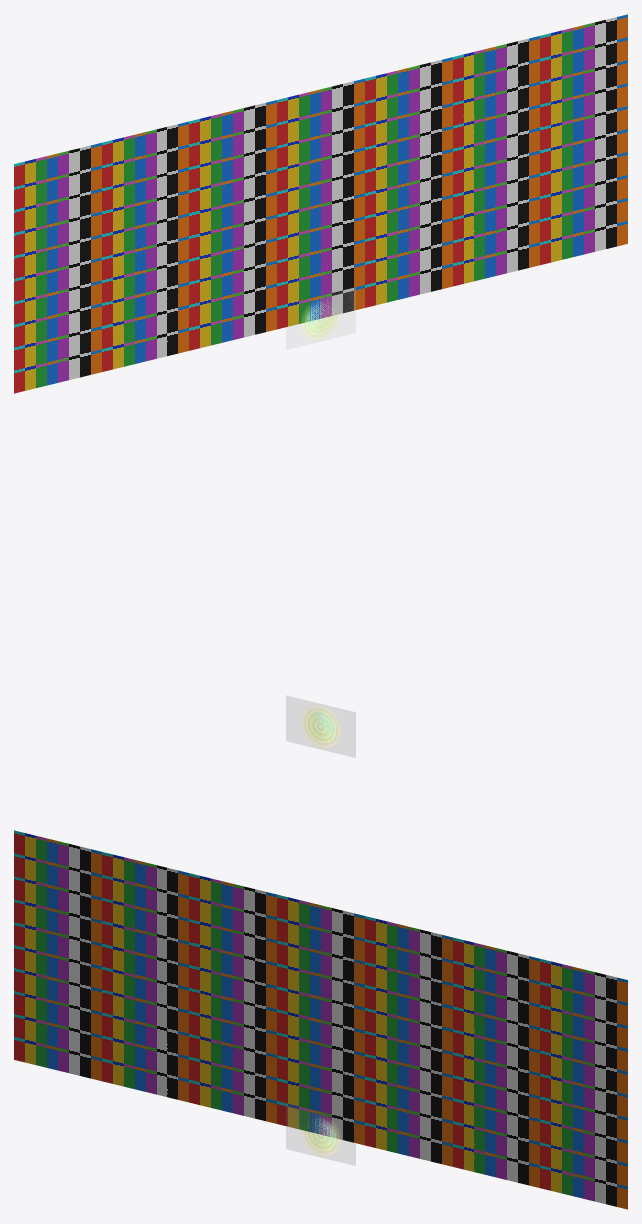
File: temporal_reactive.gltf
3 views of the same model, one above another, from view 1: azimuth 30°, elevation 25°; view 2: azimuth 150°, elevation 25°; view 3: azimuth 330°, elevation 25° (orthographic).
Visible parts, largest first — view 1: backdrop_wall, reactive_glass, particle_sorted; view 2: reactive_glass, particle_sorted, particle_oit; view 3: backdrop_wall, reactive_glass, particle_sorted.
Boxes of the visible parts, x1,y1,x2,y2 form: backdrop_wall: (14, 14, 627, 393); reactive_glass: (286, 287, 355, 349); particle_sorted: (301, 301, 339, 338); reactive_glass: (286, 695, 355, 757); particle_sorted: (302, 707, 340, 746); particle_oit: (310, 711, 335, 741); backdrop_wall: (14, 830, 627, 1209); reactive_glass: (286, 1103, 355, 1165); particle_sorted: (302, 1118, 340, 1154).
Size of what is drawn, in the model's own units: 14 by 5.5 by 0.
4 materials, 3 textured.
